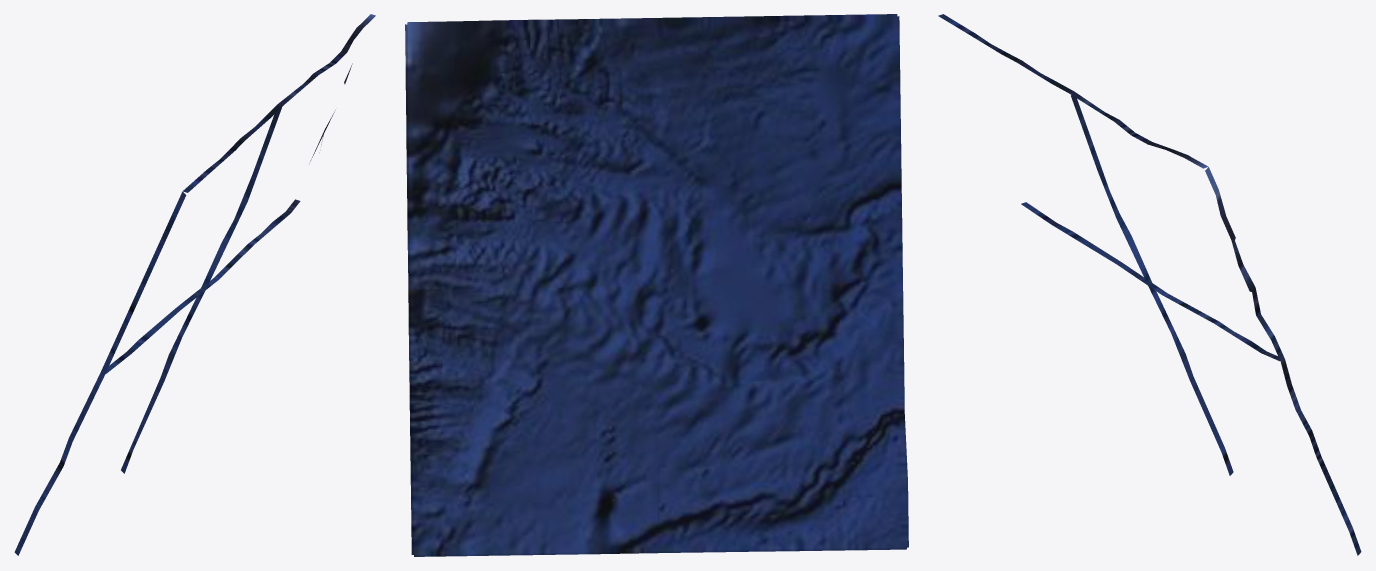
The picture shows the model from 3 angles, left to right: view 1: azimuth 30°, elevation 25°; view 2: azimuth 150°, elevation 25°; view 3: azimuth 270°, elevation 25°; orthographic projection. The views are drawn at different scales.
Bounding box in the file's own units: 76818 × 74088 × 65954.
Materials: 1 (1 with a texture image).
